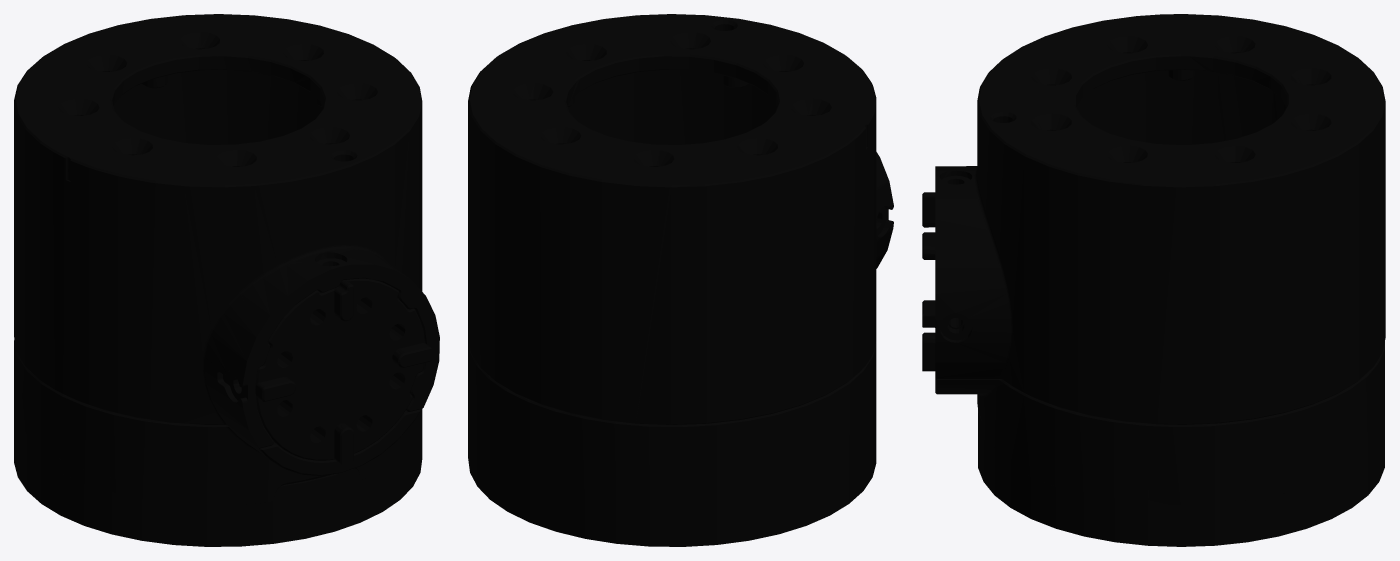
Rendered from torso_link3.usd.sapien.glb.
3 views of the same model, side by side, from view 1: azimuth 30°, elevation 25°; view 2: azimuth 150°, elevation 25°; view 3: azimuth 270°, elevation 25° (orthographic).
Parts seen in each view (by area): view 1: torso_link3; view 2: torso_link3; view 3: torso_link3.
Part boxes in pixels (x1=…): torso_link3: x1=14, y1=14, x2=439, y2=546; torso_link3: x1=468, y1=14, x2=893, y2=546; torso_link3: x1=922, y1=14, x2=1385, y2=546.
Size of the model in its own units: 0.125 by 0.1344 by 0.1418.
1 material, 1 textured.
